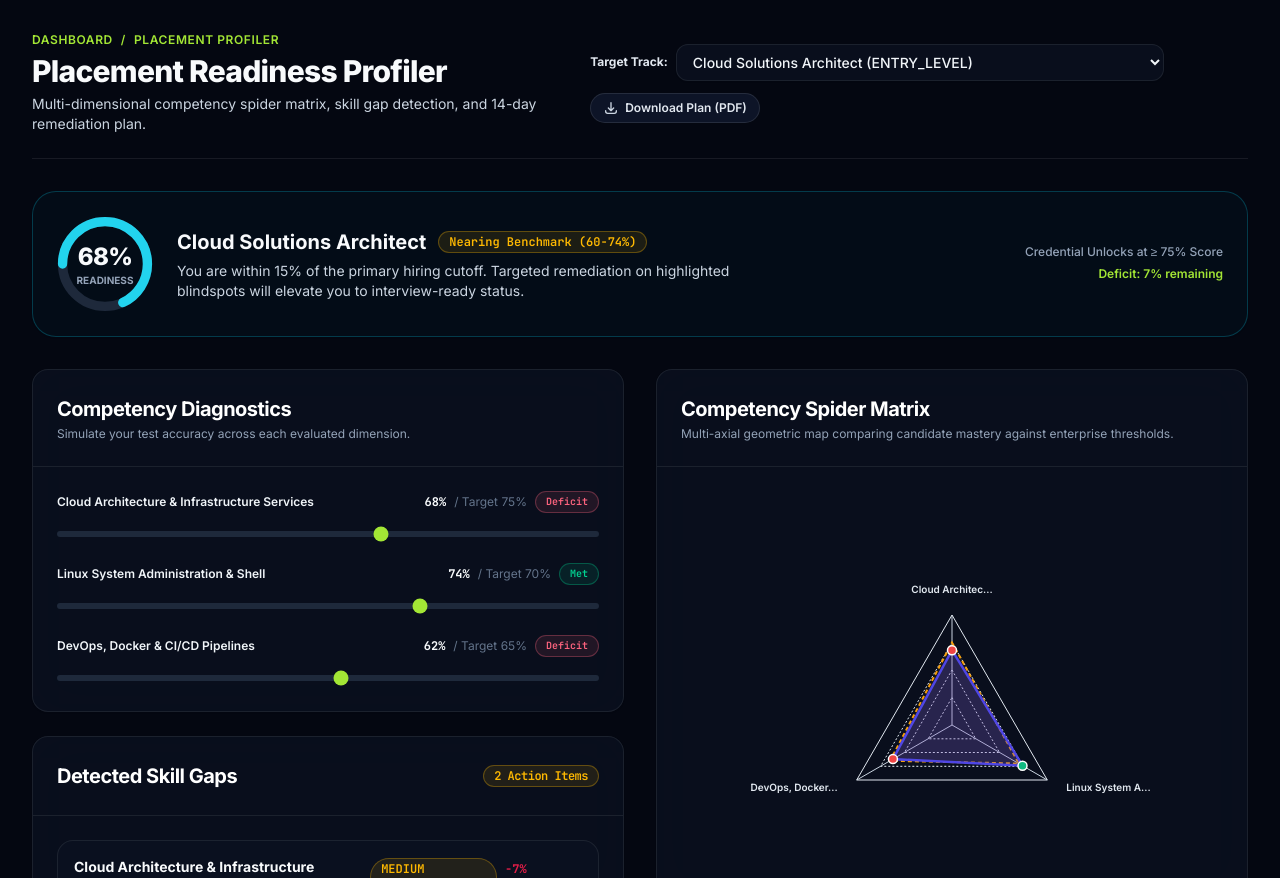
it: PlacementReadinessPage › switches target role when dropdown selection changes
Select "DevOps & Site Reliability Engineer (ENTRY_LEVEL)" in the dropdown named "Target Role Track" at (920, 62), box [676,44,1164,80]
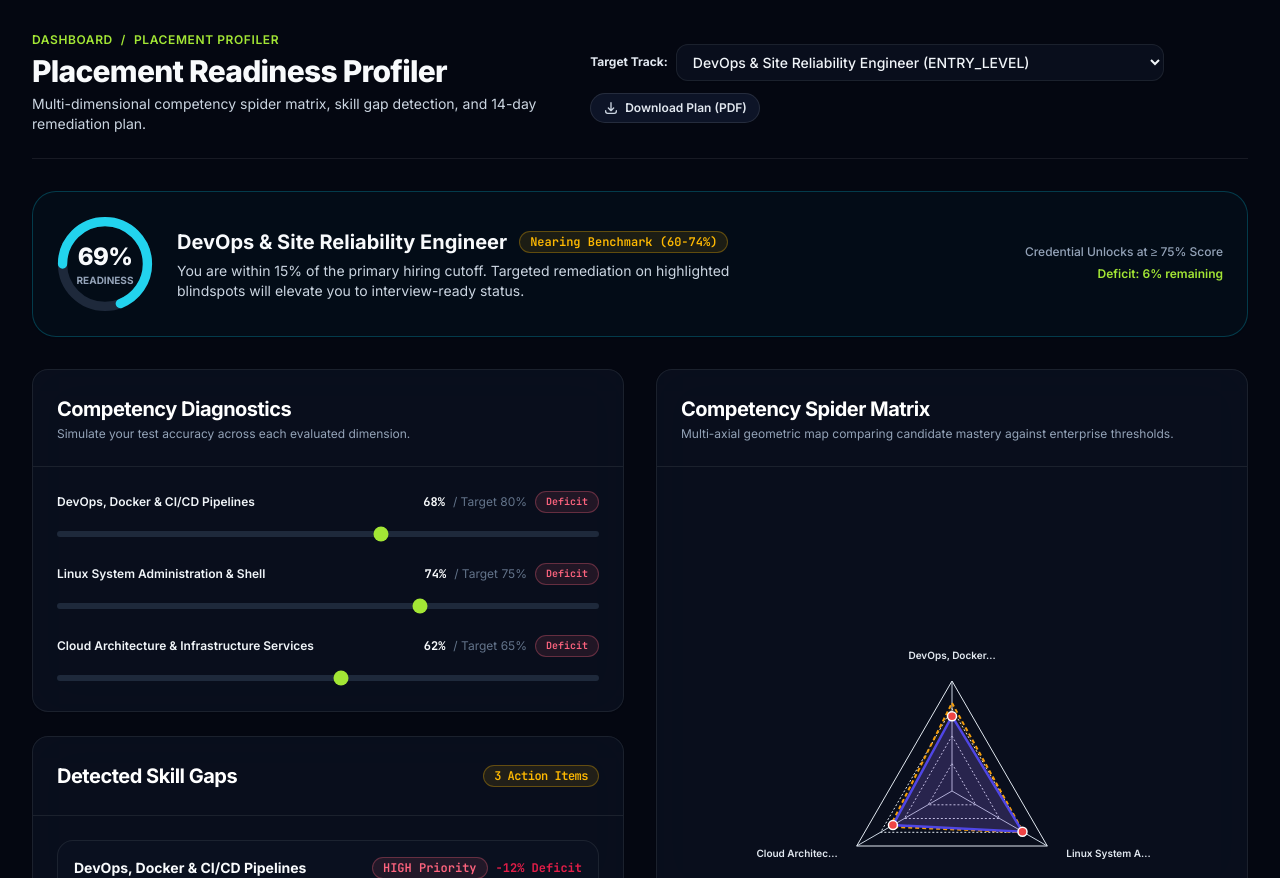
Expected: the heading "DevOps & Site Reliability Engineer" is shown, [177,227,507,257]
